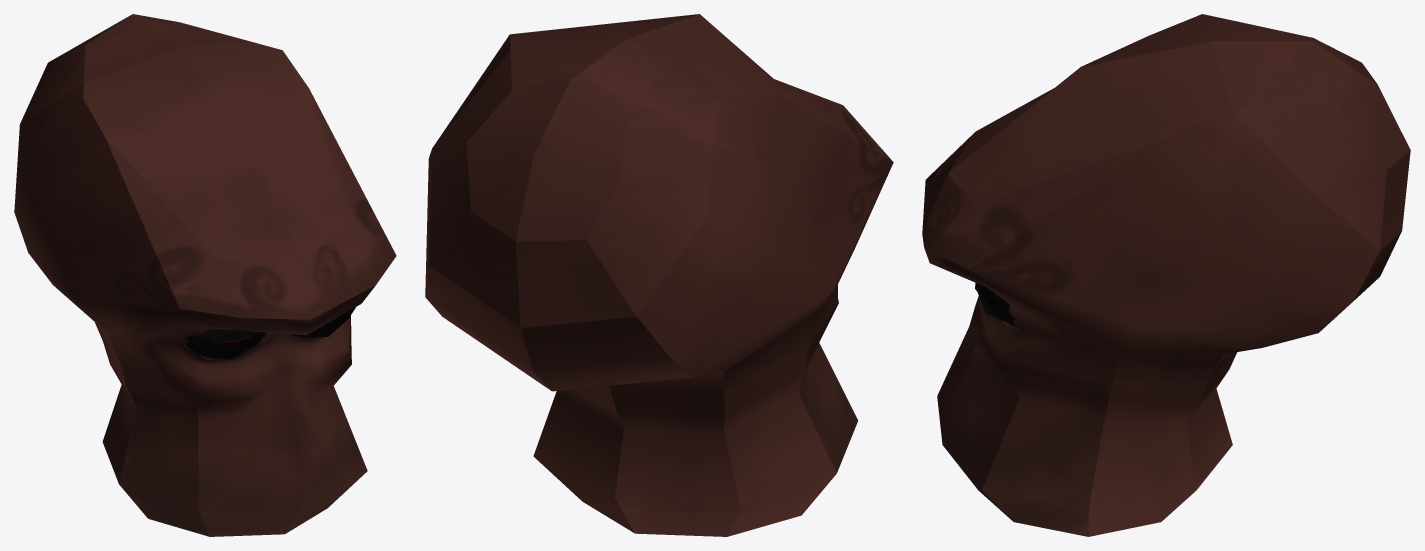
The model's file is Octapus_UV_AND_RESHAPE_IM_01_OBJ.obj.
3 renders of one model, left to right at view 1: azimuth 30°, elevation 25°; view 2: azimuth 150°, elevation 25°; view 3: azimuth 270°, elevation 25°, orthographic. The views are drawn at different scales.
Visible parts, largest first — view 1: Mesh1, Eyes_obj:pCube7 Eyes_obj:polySurface2 Mesh1; view 2: Mesh1; view 3: Mesh1, Eyes_obj:pCube7 Eyes_obj:polySurface2 Mesh1.
Boxes of the visible parts, bbox=[...] form: Mesh1: bbox=[14, 14, 396, 536]; Eyes_obj:pCube7 Eyes_obj:polySurface2 Mesh1: bbox=[185, 307, 355, 359]; Mesh1: bbox=[425, 14, 893, 536]; Mesh1: bbox=[922, 14, 1410, 536]; Eyes_obj:pCube7 Eyes_obj:polySurface2 Mesh1: bbox=[975, 283, 1016, 326].
Bounding box in the file's own units: 4.03 × 5.76 × 5.67.
3 materials, 1 textured.
